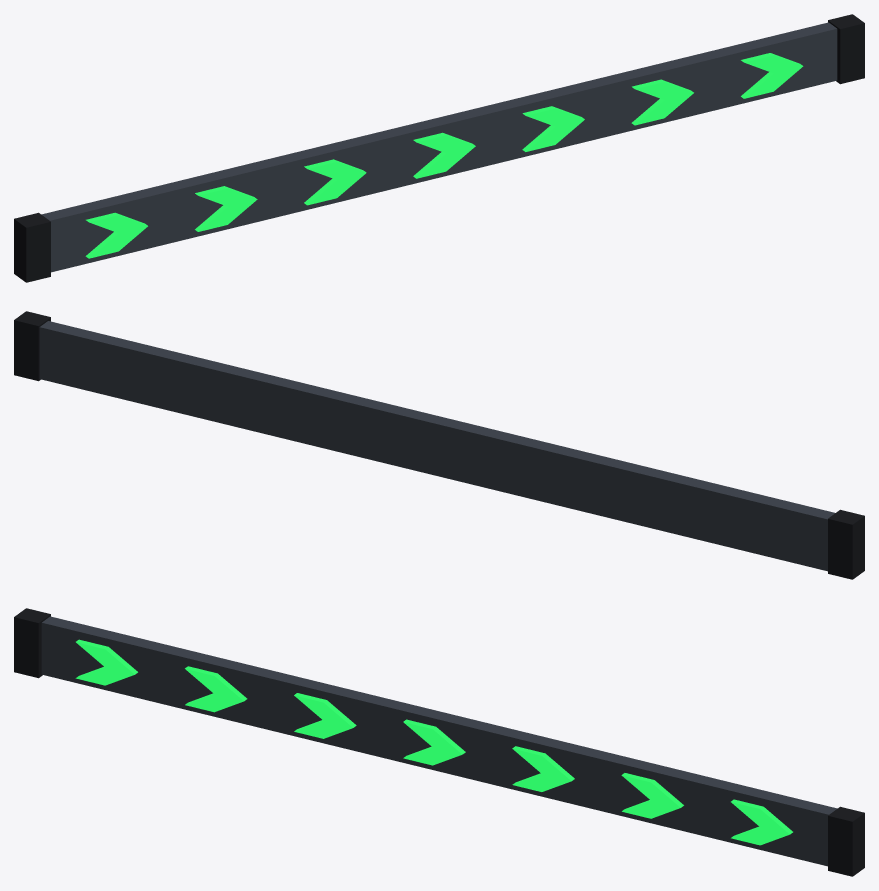
File: beacon_evac_light_strip.glb
The picture shows the model from 3 angles, top to bottom: view 1: azimuth 30°, elevation 25°; view 2: azimuth 150°, elevation 25°; view 3: azimuth 330°, elevation 25°; orthographic projection.
Parts seen in each view (by area): view 1: beacon_evac_light_strip; view 2: beacon_evac_light_strip; view 3: beacon_evac_light_strip.
Part boxes in pixels (box(x1,y1,x2,y2)): beacon_evac_light_strip: box(14, 14, 864, 282); beacon_evac_light_strip: box(14, 311, 864, 579); beacon_evac_light_strip: box(14, 608, 864, 876).
Size of the model in its own units: 1.69 by 0.106 by 0.045.
